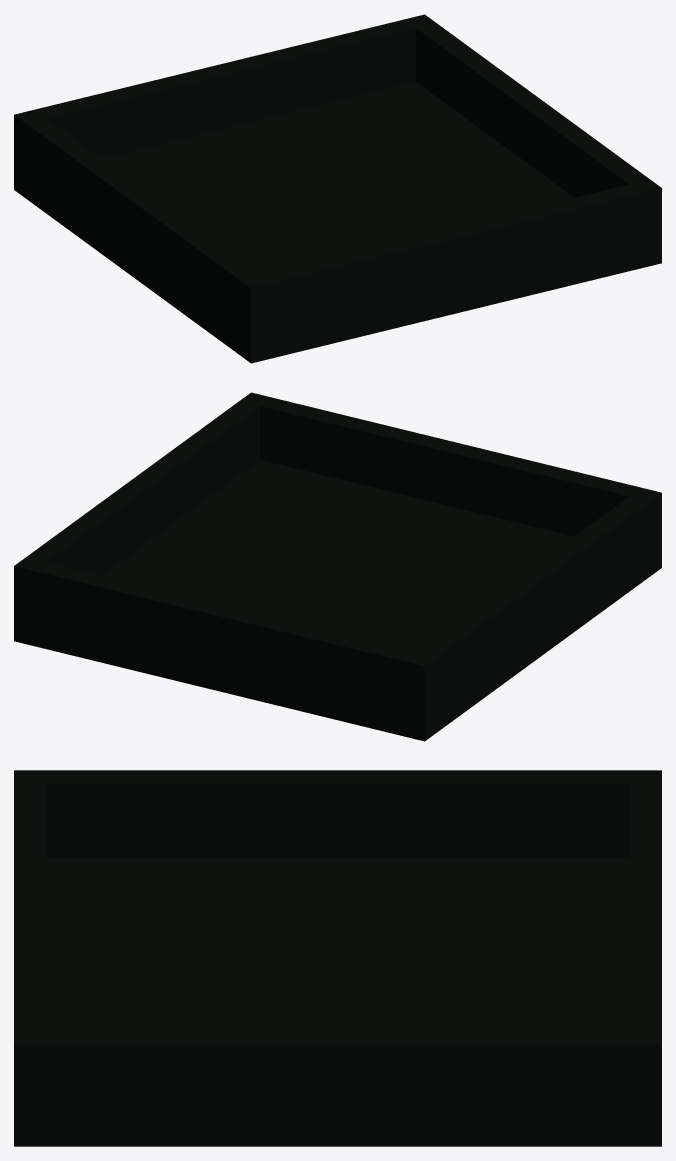
File: BlackRoof_4Edges.glb
The picture shows the model from 3 angles, top to bottom: view 1: azimuth 30°, elevation 25°; view 2: azimuth 150°, elevation 25°; view 3: azimuth 270°, elevation 25°; orthographic projection. The views are drawn at different scales.
Visible parts, largest first — view 1: roof_flat_4Edges_black; view 2: roof_flat_4Edges_black; view 3: roof_flat_4Edges_black.
Boxes of the visible parts, bbox=[...] form: roof_flat_4Edges_black: bbox=[14, 14, 661, 363]; roof_flat_4Edges_black: bbox=[14, 392, 661, 741]; roof_flat_4Edges_black: bbox=[14, 770, 661, 1146].
Size of what is drawn, in the model's own units: 4 by 0.7 by 4.
1 material, 1 textured.
